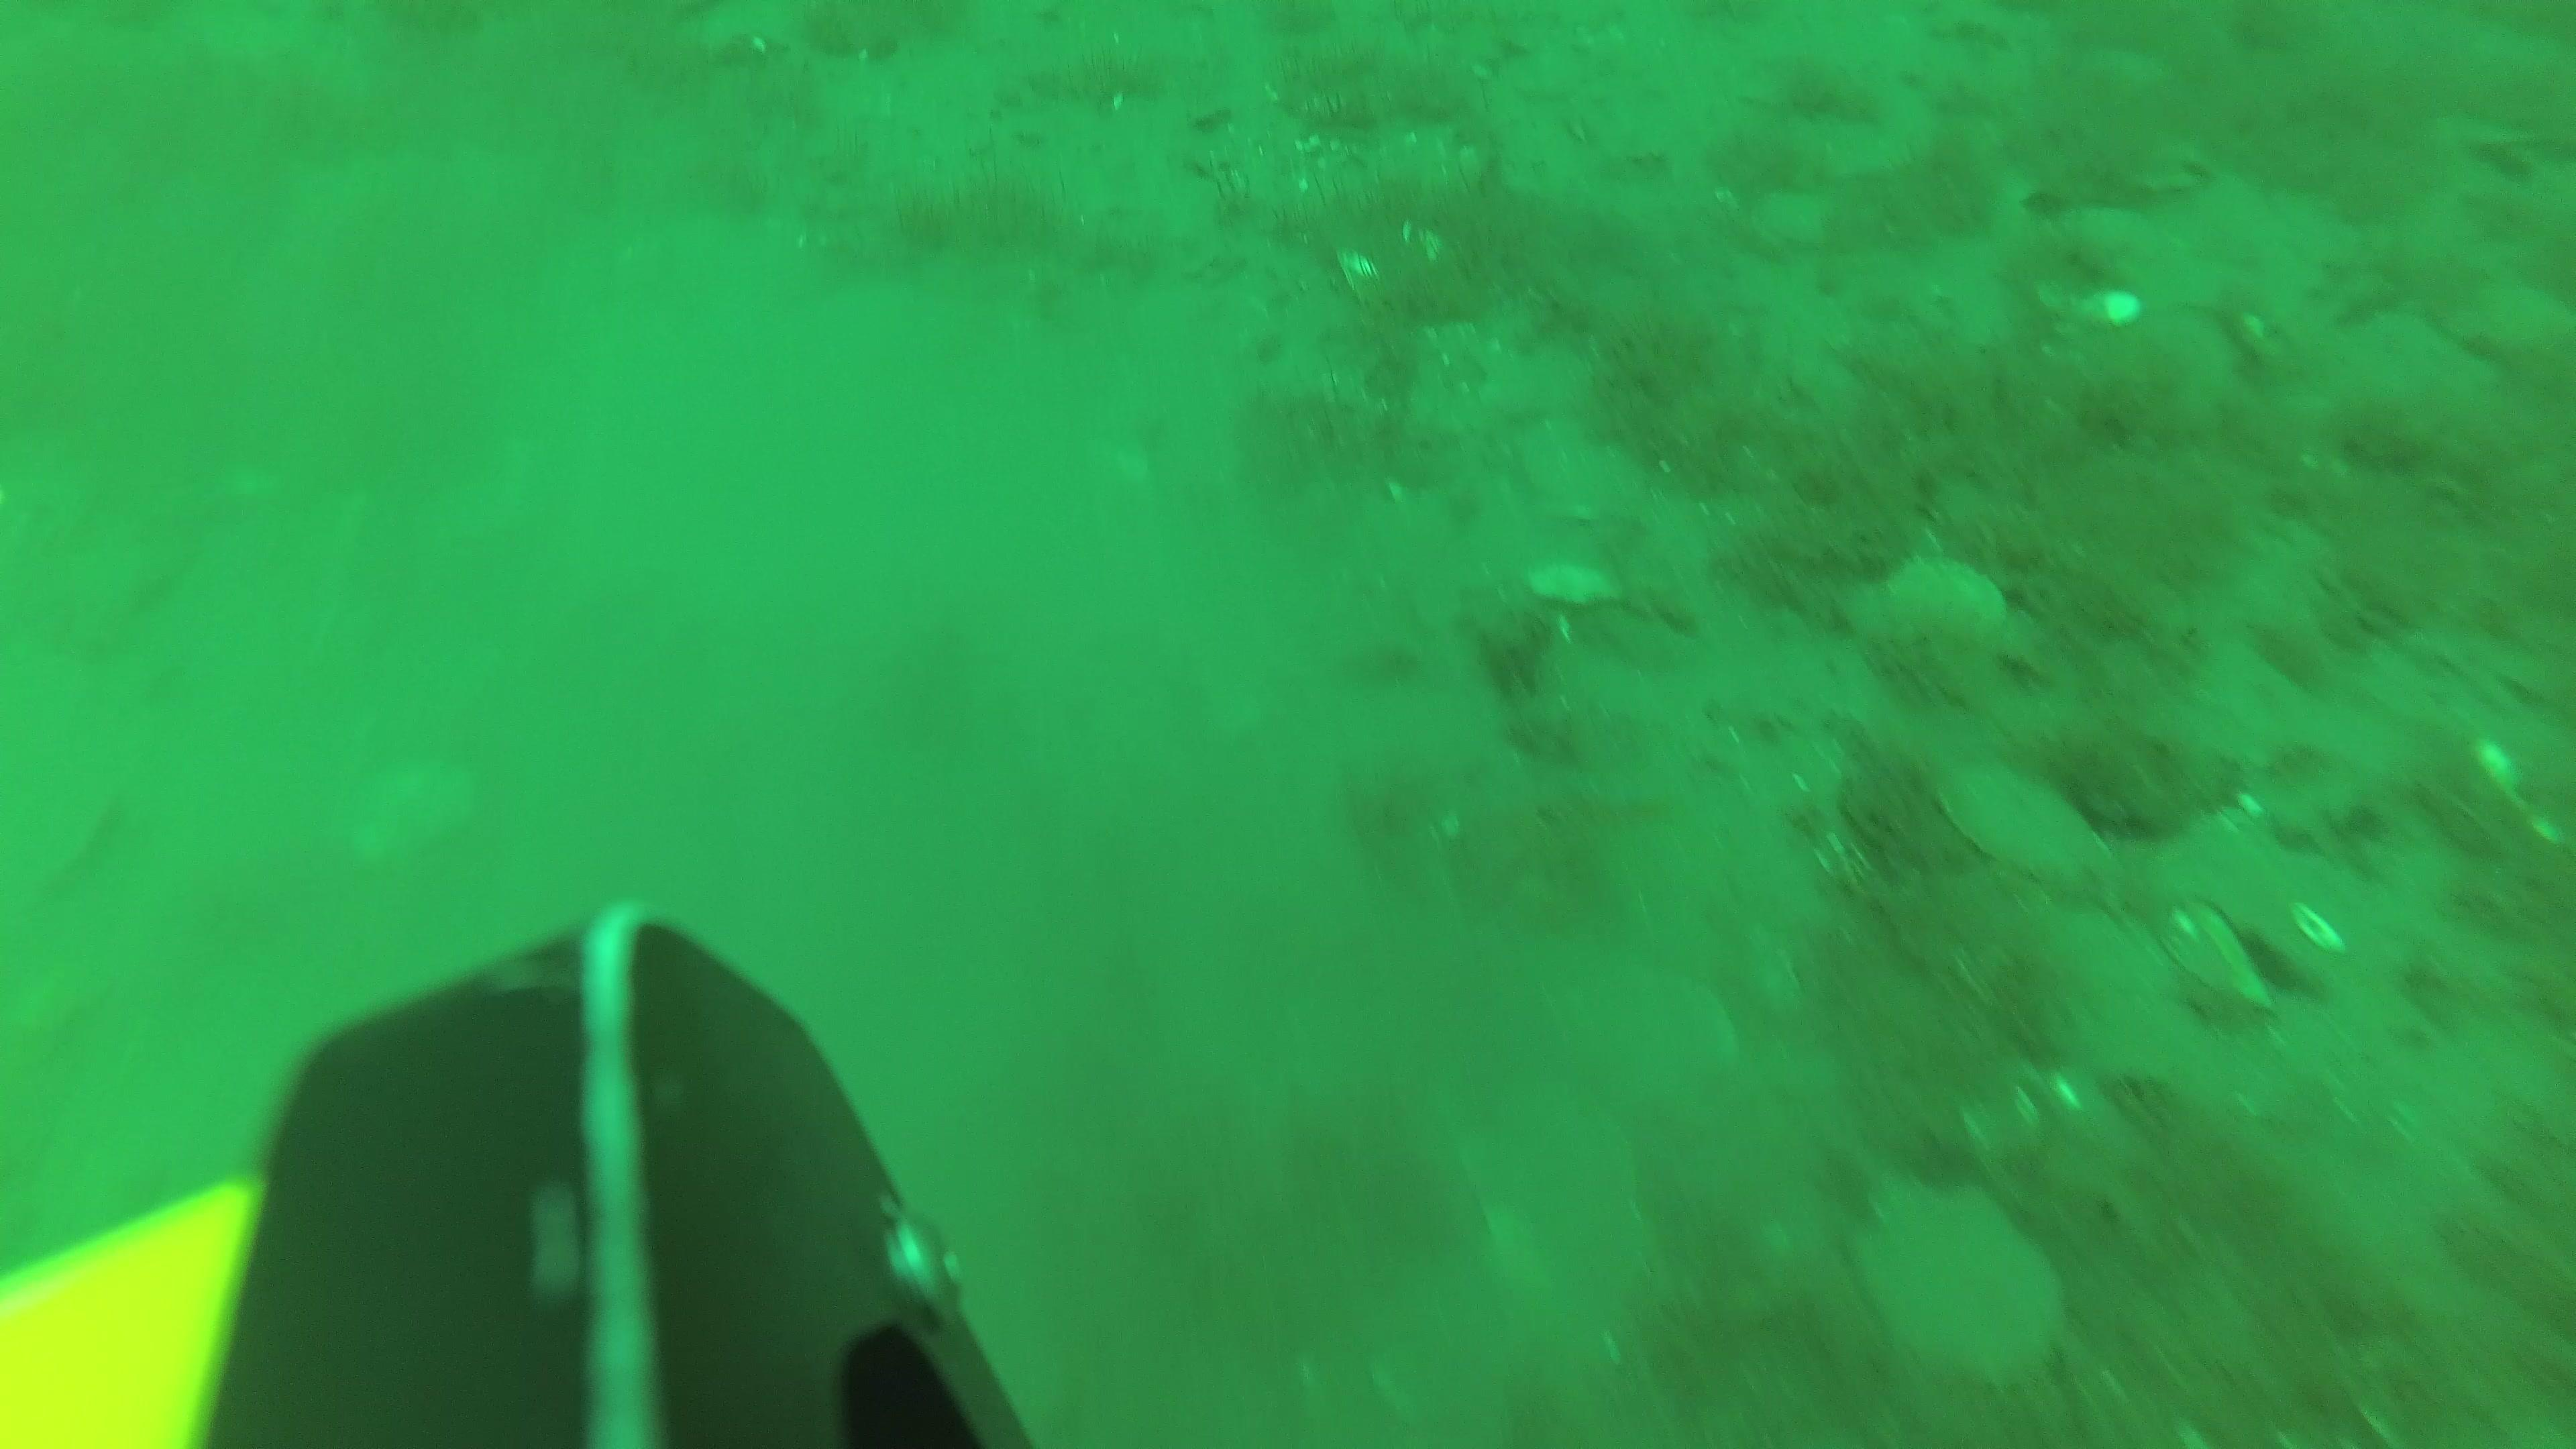scallop: (1849, 1166, 2077, 1385), (1996, 897, 2196, 1100), (1937, 755, 2125, 888), (2155, 883, 2270, 1039), (2121, 695, 2286, 786), (1881, 550, 2010, 655), (2465, 628, 2562, 717), (1757, 180, 1861, 255)
